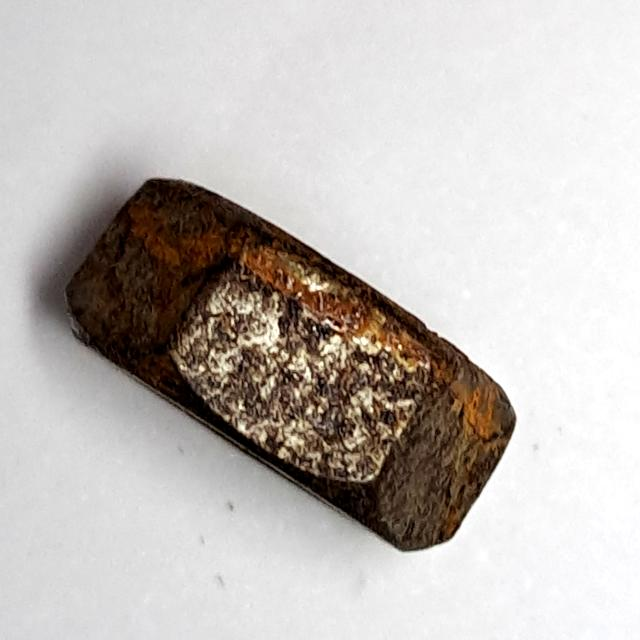Side_Rust: (51, 169, 533, 566)
